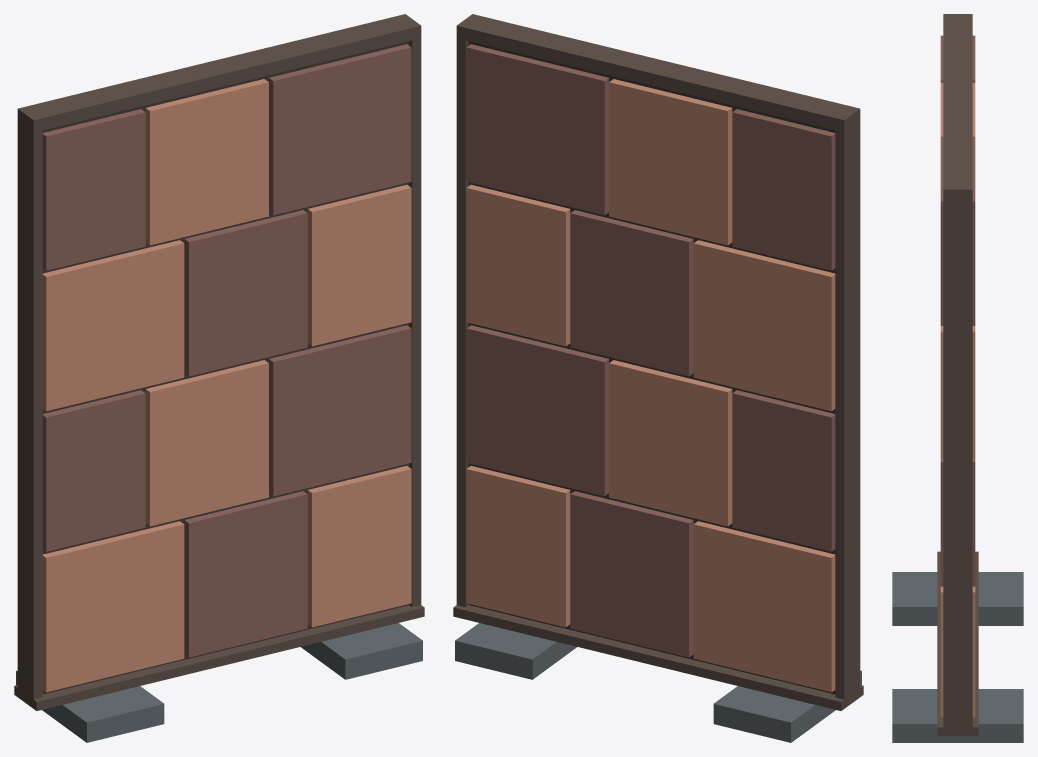
3 renders of one model, left to right at view 1: azimuth 30°, elevation 25°; view 2: azimuth 150°, elevation 25°; view 3: azimuth 270°, elevation 25°, orthographic. The views are drawn at different scales.
Parts seen in each view (by area): view 1: acoustic-frame, acoustic-tile-2-3, acoustic-tile-4-3, acoustic-tile-1-1, acoustic-tile-3-1, acoustic-tile-1-2, acoustic-tile-3-2, acoustic-tile-4-2, acoustic-tile-2-2, acoustic-tile-3-3, acoustic-tile-1-3, acoustic-tile-2-1 (+5 smaller); view 2: acoustic-frame, acoustic-tile-2-3, acoustic-tile-4-3, acoustic-tile-1-1, acoustic-tile-3-1, acoustic-tile-1-2, acoustic-tile-3-2, acoustic-tile-4-2, acoustic-tile-2-2, acoustic-tile-3-3, acoustic-tile-1-3, acoustic-tile-2-1 (+5 smaller); view 3: acoustic-frame, steel-foot-right, steel-foot-left, acoustic-ground-rail, acoustic-tile-4-3, acoustic-tile-2-3, acoustic-tile-1-3, acoustic-tile-3-3, acoustic-tile-4-2, acoustic-tile-4-1.
Boxes of the visible parts, x1,y1,x2,y2 form: acoustic-frame: (17, 14, 421, 699); acoustic-tile-2-3: (269, 325, 411, 496); acoustic-tile-4-3: (269, 44, 411, 215); acoustic-tile-1-1: (42, 521, 184, 692); acoustic-tile-3-1: (42, 240, 184, 411); acoustic-tile-1-2: (184, 491, 307, 657); acoustic-tile-3-2: (184, 210, 307, 376); acoustic-tile-4-2: (145, 79, 268, 245); acoustic-tile-2-2: (145, 360, 268, 526); acoustic-tile-3-3: (307, 184, 411, 346); acoustic-tile-1-3: (307, 466, 411, 627); acoustic-tile-2-1: (42, 390, 145, 551); acoustic-frame: (456, 14, 860, 699); acoustic-tile-2-3: (466, 325, 608, 496); acoustic-tile-4-3: (466, 44, 608, 215); acoustic-tile-1-1: (693, 521, 835, 692); acoustic-tile-3-1: (693, 240, 835, 411); acoustic-tile-1-2: (570, 491, 693, 657); acoustic-tile-3-2: (570, 210, 693, 376); acoustic-tile-4-2: (609, 79, 732, 245); acoustic-tile-2-2: (609, 360, 732, 526); acoustic-tile-3-3: (466, 184, 570, 346); acoustic-tile-1-3: (466, 466, 570, 627); acoustic-tile-2-1: (732, 390, 835, 551); acoustic-frame: (943, 14, 972, 727); steel-foot-right: (892, 689, 1023, 742); steel-foot-left: (892, 572, 1023, 625); acoustic-ground-rail: (937, 551, 978, 735); acoustic-tile-4-3: (940, 138, 975, 325); acoustic-tile-2-3: (940, 456, 975, 586); acoustic-tile-1-3: (940, 586, 975, 716); acoustic-tile-3-3: (940, 326, 975, 456); acoustic-tile-4-2: (940, 82, 975, 138); acoustic-tile-4-1: (940, 35, 975, 82).
Bounding box in the file's own units: 1.2 × 1.8 × 0.38.
